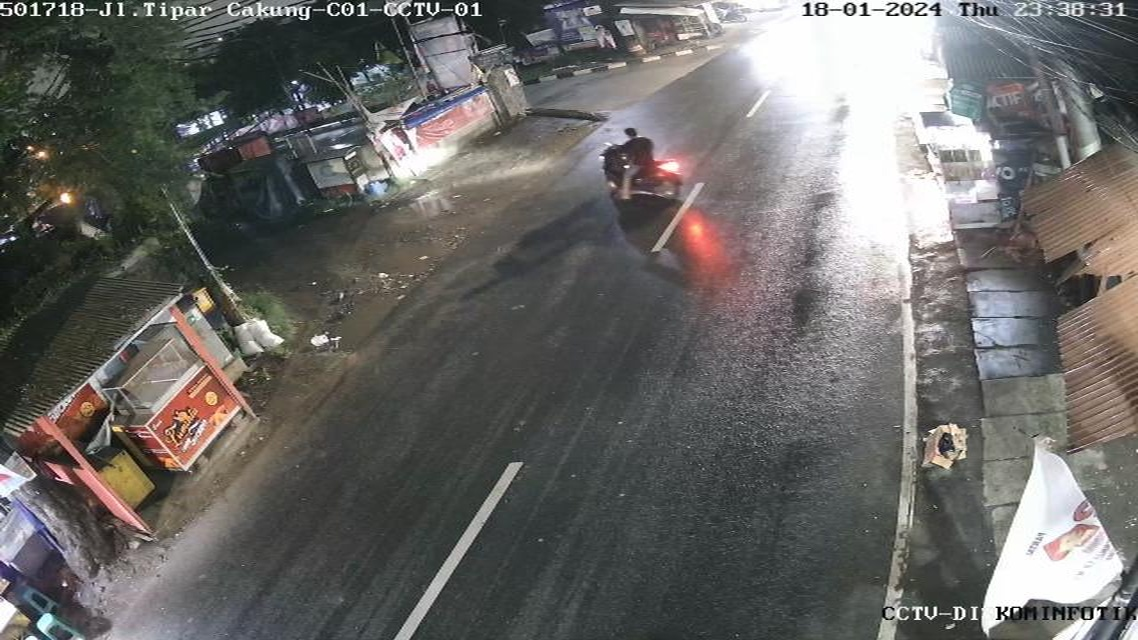Gerobak: (60, 340, 276, 493), (6, 377, 162, 532), (295, 133, 393, 210)
